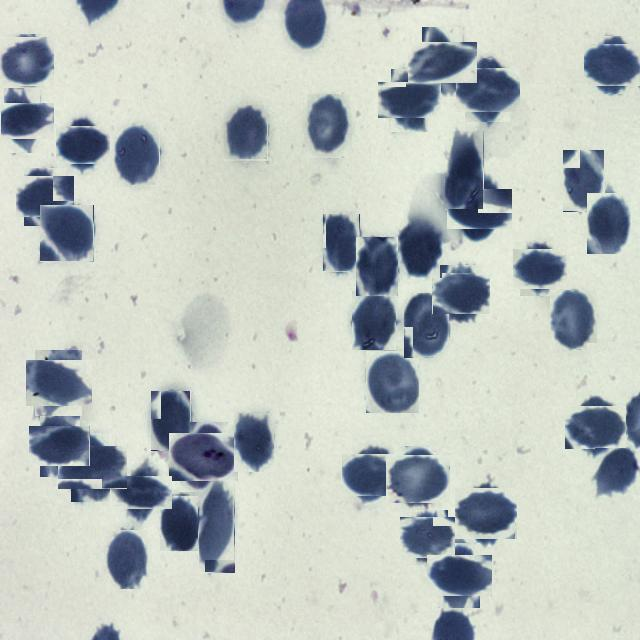red blood cell: (199, 480, 235, 573), (366, 351, 419, 413), (458, 486, 514, 542), (64, 440, 120, 496), (30, 355, 86, 411), (389, 451, 446, 506), (445, 131, 484, 210), (460, 62, 515, 118), (415, 34, 470, 90), (40, 205, 94, 262), (404, 293, 450, 358), (550, 290, 598, 350), (432, 549, 486, 602), (114, 125, 160, 186), (1, 36, 54, 88), (454, 182, 506, 235), (307, 94, 350, 158), (570, 401, 622, 453), (587, 193, 631, 254), (34, 421, 86, 472), (563, 150, 605, 212), (352, 291, 396, 350), (588, 40, 638, 90), (384, 76, 434, 126), (436, 268, 486, 318), (20, 172, 70, 222), (106, 530, 148, 589), (356, 237, 398, 296), (224, 104, 268, 160), (399, 221, 442, 278), (345, 450, 395, 499), (151, 391, 191, 451), (0, 96, 48, 146), (234, 413, 274, 472), (403, 514, 451, 562), (117, 469, 165, 517), (516, 245, 564, 292), (60, 121, 106, 168), (323, 214, 360, 272), (160, 494, 198, 550), (595, 448, 637, 498)
ring: (174, 428, 233, 487)
